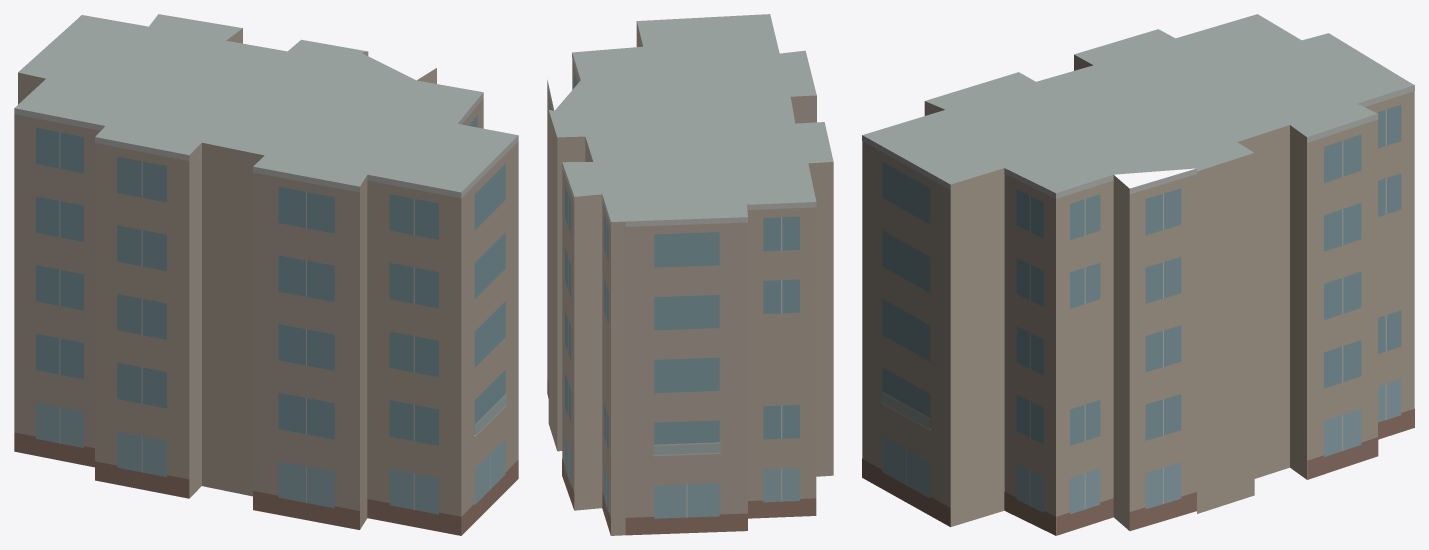
The model's file is survey-upis-32758736.glb.
The picture shows the model from 3 angles, left to right: view 1: azimuth 30°, elevation 25°; view 2: azimuth 150°, elevation 25°; view 3: azimuth 270°, elevation 25°; orthographic projection. The views are drawn at different scales.
Visible parts, largest first — view 1: survey-upis-32758736.tmp; view 2: survey-upis-32758736.tmp; view 3: survey-upis-32758736.tmp.
Boxes of the visible parts, left/top/right/bottom form: survey-upis-32758736.tmp: left=14, top=14, right=518, bottom=535; survey-upis-32758736.tmp: left=547, top=14, right=833, bottom=535; survey-upis-32758736.tmp: left=862, top=14, right=1414, bottom=535.
Size of the model in its own units: 16.06 by 14.3 by 20.91.
